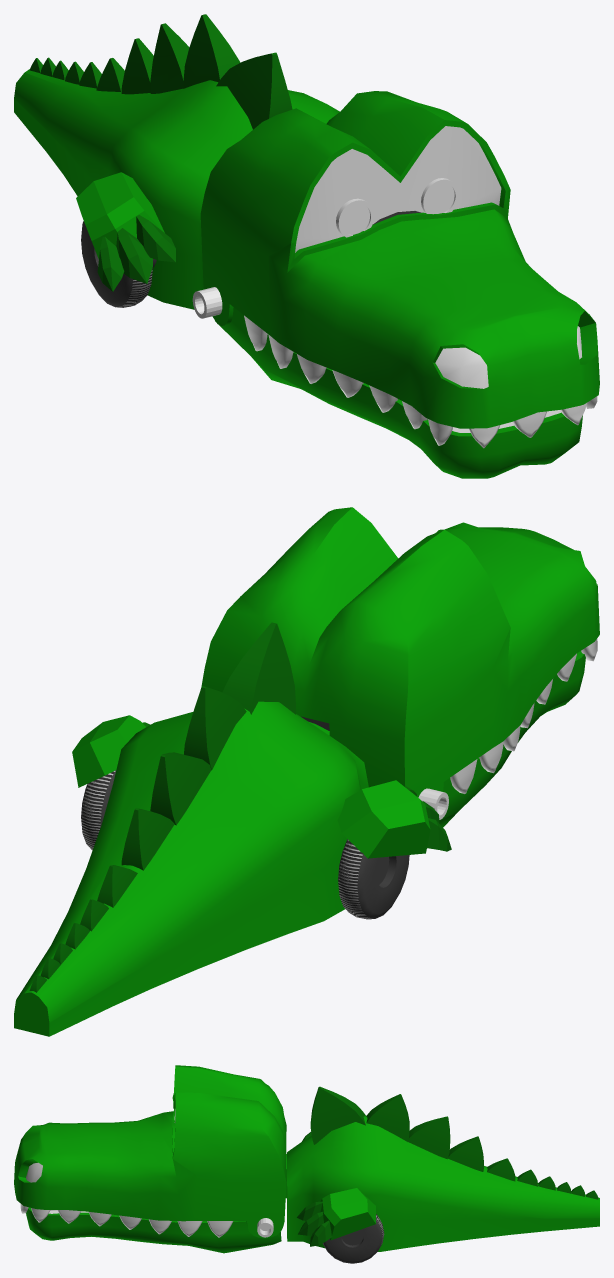
Rendered from JareRobot (1).fbx.
3 renders of one model, top to bottom at view 1: azimuth 30°, elevation 25°; view 2: azimuth 150°, elevation 25°; view 3: azimuth 270°, elevation 25°, orthographic. The views are drawn at different scales.
Visible parts, largest first — view 1: Head, Body, Hand_r; view 2: Body, Head, Hand_r, Hand_l; view 3: Body, Head, Hand_l, teeth.040.
Part boxes in pixels (x1,y1,x2,y2): Head: (200,91,599,428); Body: (14,14,582,478); Hand_r: (76,172,175,291); Body: (14,622,585,1036); Head: (201,507,599,797); Hand_r: (337,780,451,858); Hand_l: (72,715,150,787); Body: (26,1086,599,1263); Head: (14,1065,286,1238); Hand_l: (297,1188,376,1246); teeth.040: (207,1221,233,1237).
Bounding box in the file's own units: 658 × 481 × 1655.
